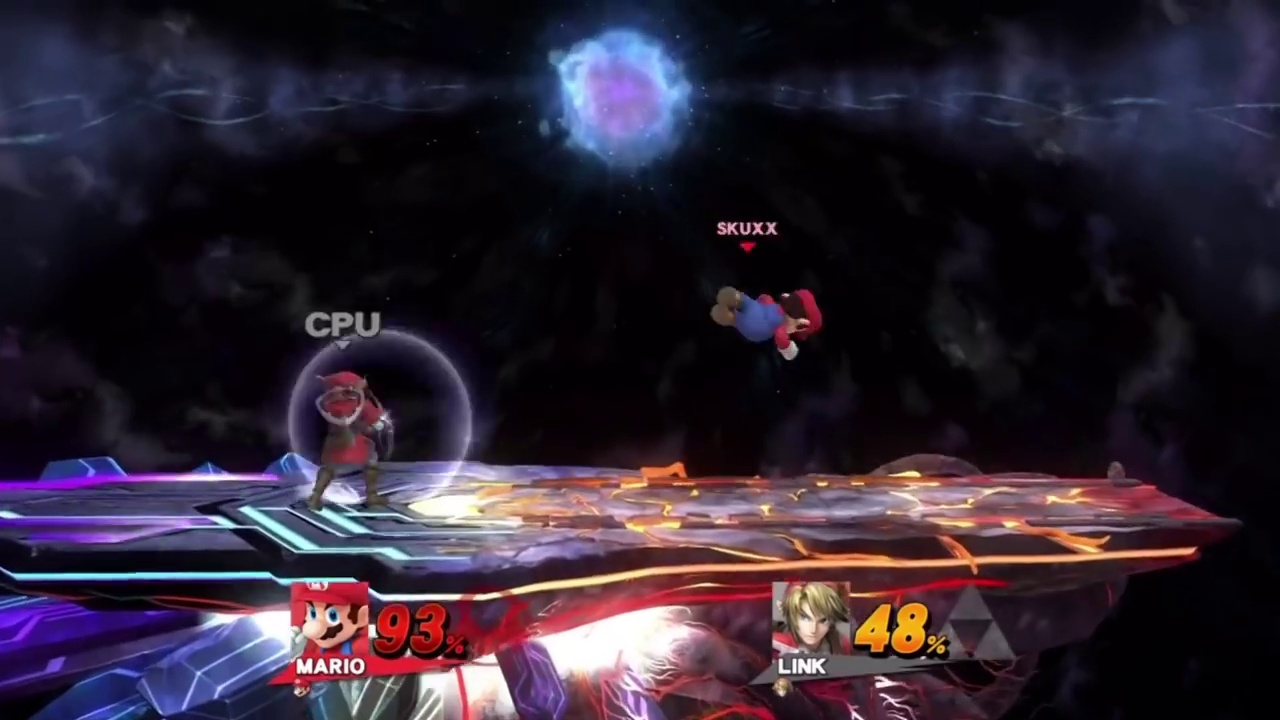Mario: (703, 283, 824, 360)
